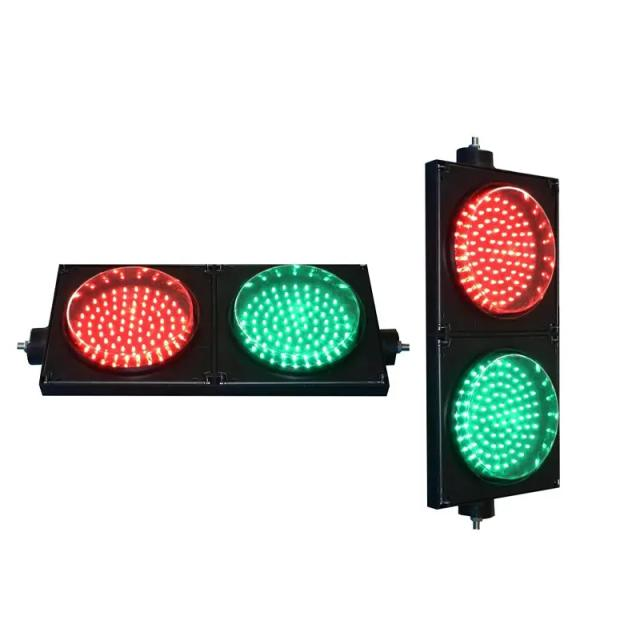green: (219, 258, 377, 378), (446, 345, 564, 493)
red: (439, 164, 565, 324), (67, 266, 196, 372)
